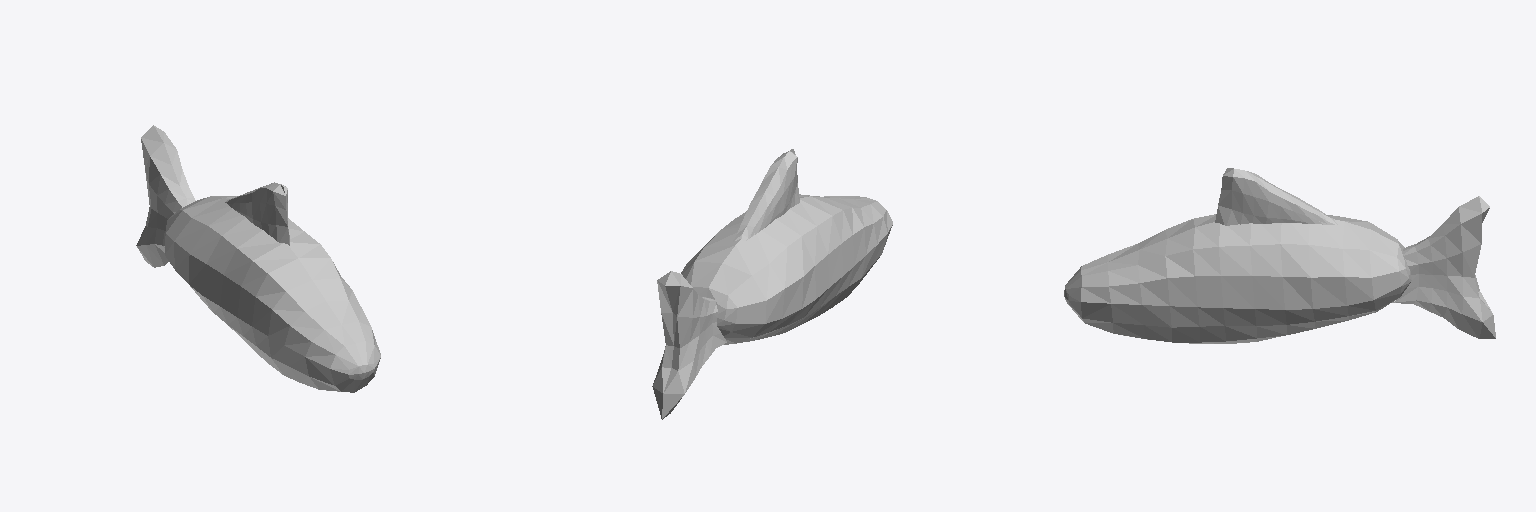
File: fish.obj
3 renders of one model, left to right at view 1: azimuth 30°, elevation 25°; view 2: azimuth 150°, elevation 25°; view 3: azimuth 270°, elevation 25°, orthographic.
Visible parts, largest first — view 1: body, pPlane7, dorsal_fin2; view 2: body, pPlane7, dorsal_fin2; view 3: body, pPlane7, dorsal_fin2.
Boxes of the visible parts, x1=… form: body: x1=165, y1=196, x2=380, y2=392; pPlane7: x1=136, y1=125, x2=195, y2=267; dorsal_fin2: x1=225, y1=182, x2=289, y2=245; body: x1=681, y1=194, x2=892, y2=344; pPlane7: x1=652, y1=271, x2=726, y2=419; dorsal_fin2: x1=733, y1=149, x2=799, y2=241; body: x1=1064, y1=214, x2=1411, y2=343; pPlane7: x1=1392, y1=196, x2=1495, y2=338; dorsal_fin2: x1=1215, y1=168, x2=1337, y2=225.
Bounding box in the file's own units: 3.73 × 6.15 × 13.66.